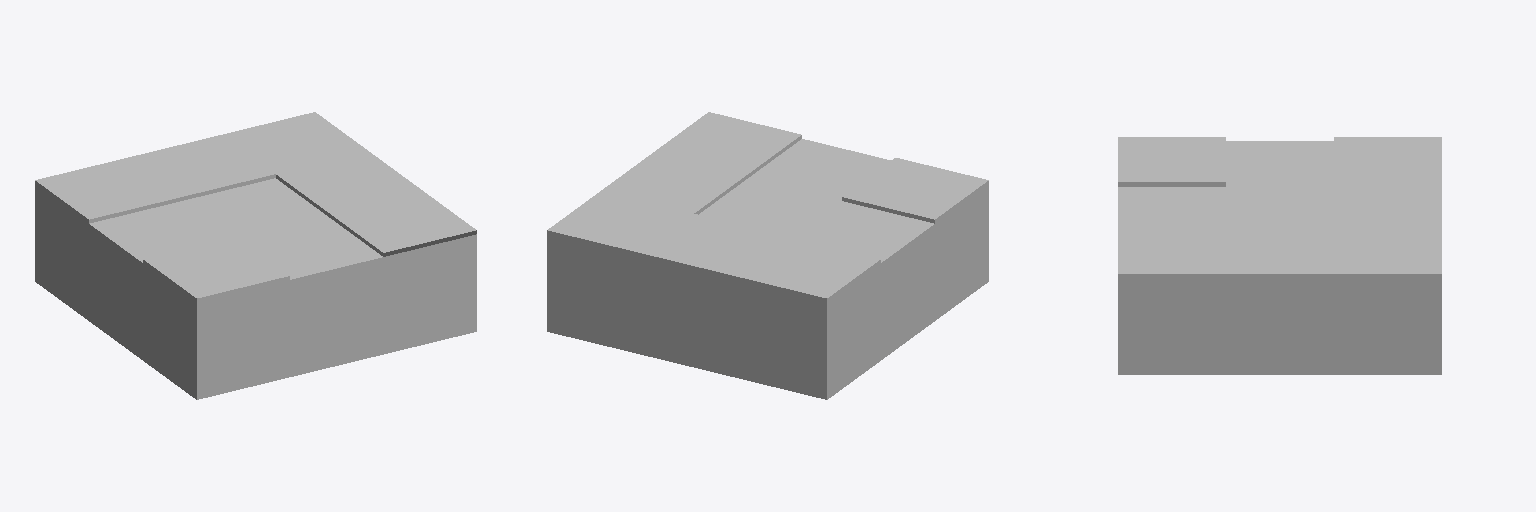
File: road-angle.obj
3 renders of one model, left to right at view 1: azimuth 30°, elevation 25°; view 2: azimuth 150°, elevation 25°; view 3: azimuth 270°, elevation 25°, orthographic.
Parts seen in each view (by area): view 1: angle.001; view 2: angle.001; view 3: angle.001.
Boxes of the visible parts, x1,y1,x2,y2 form: angle.001: [35, 112, 476, 399]; angle.001: [547, 112, 988, 399]; angle.001: [1118, 137, 1441, 374].
Bounding box in the file's own units: 1 × 0.346 × 1.